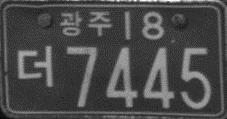1: (119, 8, 133, 42)
4: (101, 45, 139, 107), (141, 44, 177, 107)
5: (177, 45, 214, 111)
7: (63, 44, 98, 107)
8: (142, 11, 166, 43)
광주_O: (58, 8, 112, 37)
더: (17, 43, 54, 90)
